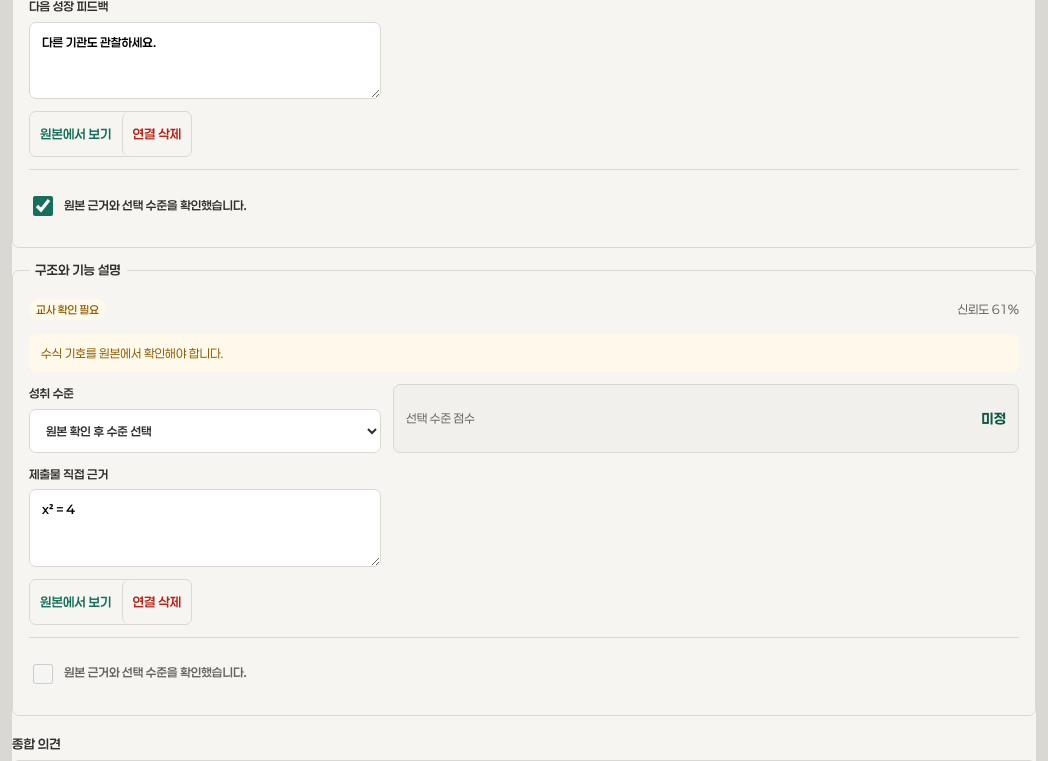
Given teacher review When a rubric level is selected Then its exact score is used and prior approval is revoked
(page scrolled)
Select "기초 · 30점" in the dropdown named "구조와 기능 설명 성취 수준". click: (205, 431)
box: [29,409,381,453]
(page scrolled)
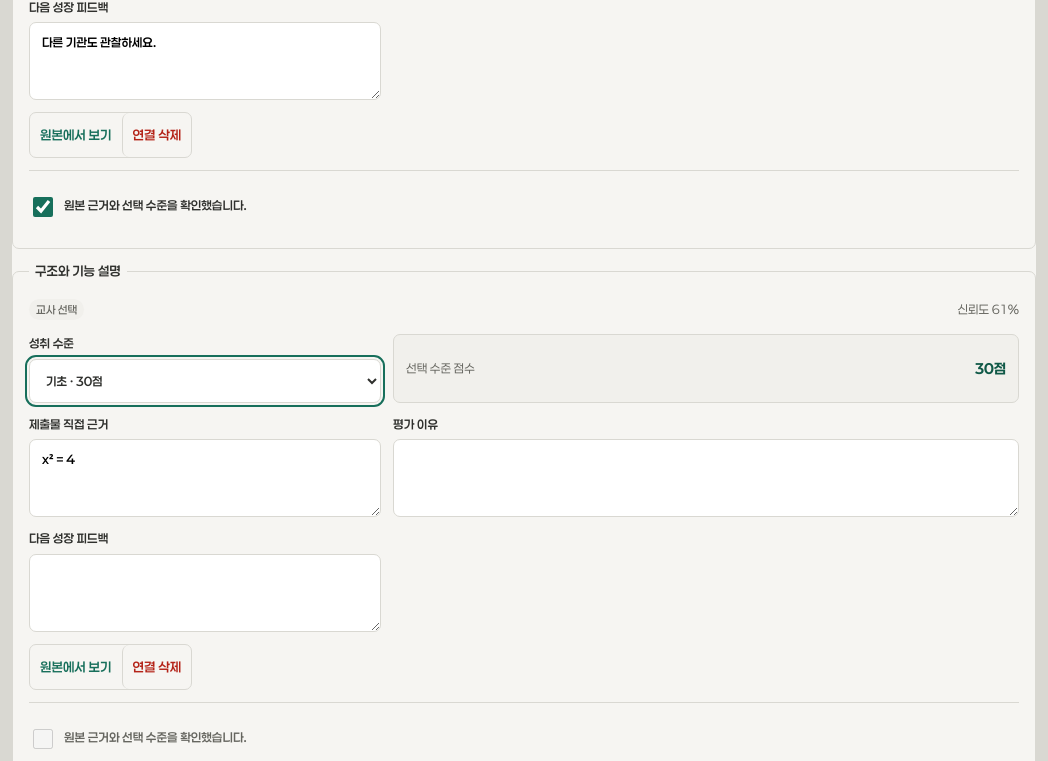
Check: the text "교사 선택" is shown, box [29,299,84,320]
